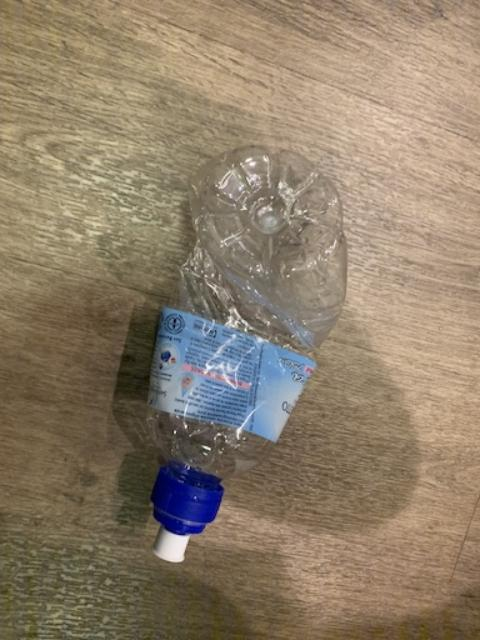plastic: (139, 146, 345, 476)
